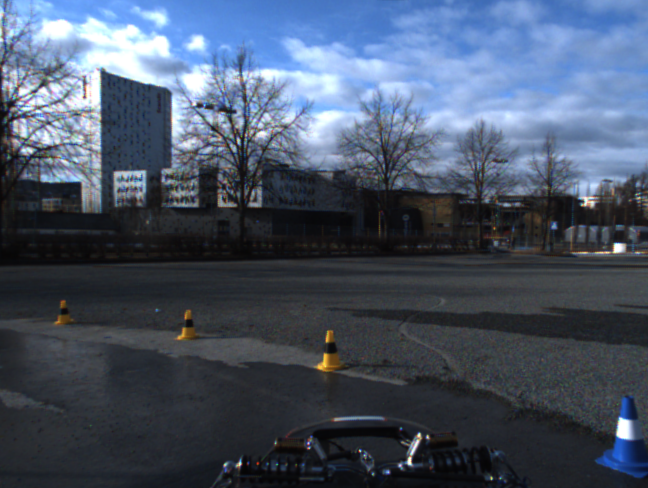cone-small-blue: (594, 395, 648, 478)
cone-small-yellow: (314, 329, 349, 372), (175, 309, 200, 341), (54, 299, 76, 325)
